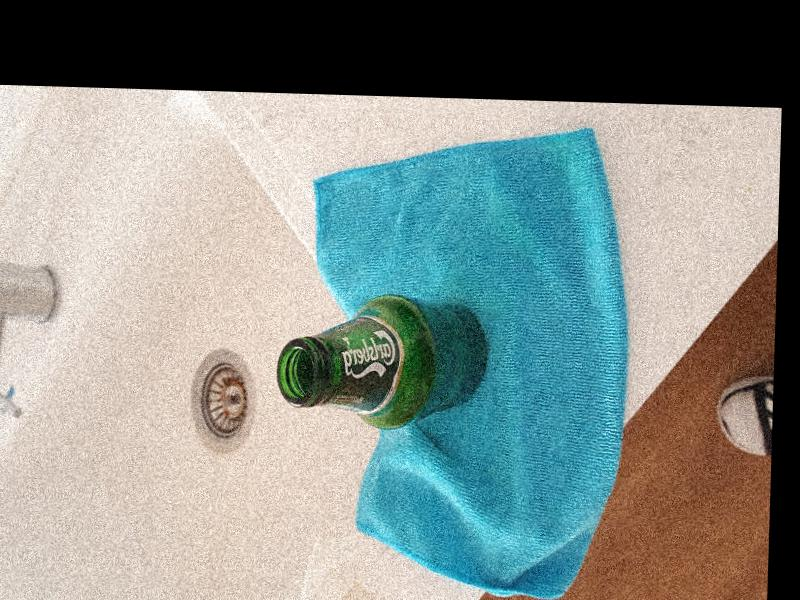Beer: (277, 297, 490, 433)
